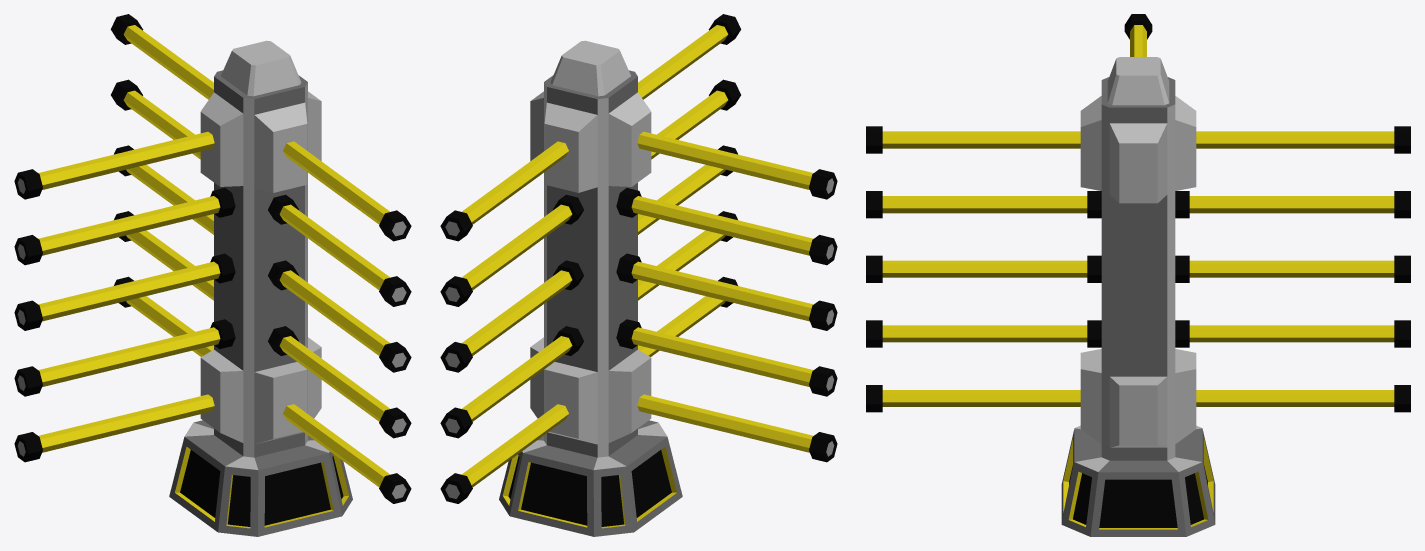
File: Wall3.fbx
3 renders of one model, left to right at view 1: azimuth 30°, elevation 25°; view 2: azimuth 150°, elevation 25°; view 3: azimuth 270°, elevation 25°, orthographic.
Parts seen in each view (by area): view 1: Plane.005; view 2: Plane.005; view 3: Plane.005.
Boxes of the visible parts, bbox=[...] form: Plane.005: bbox=[14, 14, 411, 536]; Plane.005: bbox=[440, 14, 837, 536]; Plane.005: bbox=[866, 14, 1410, 536].
Size of the model in its own units: 117 by 162 by 183.
